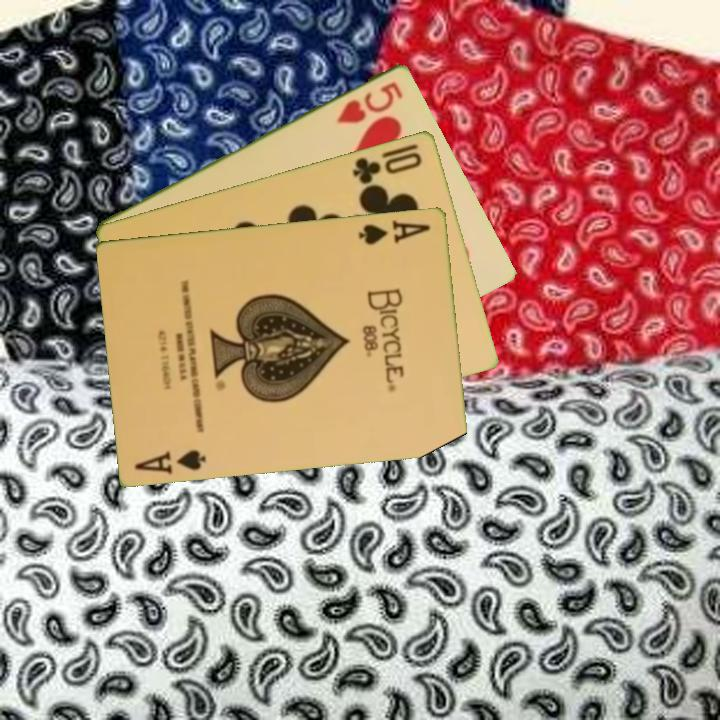10c: (349, 148, 425, 187)
5h: (333, 77, 406, 126)
As: (355, 216, 434, 248), (131, 445, 209, 477)
